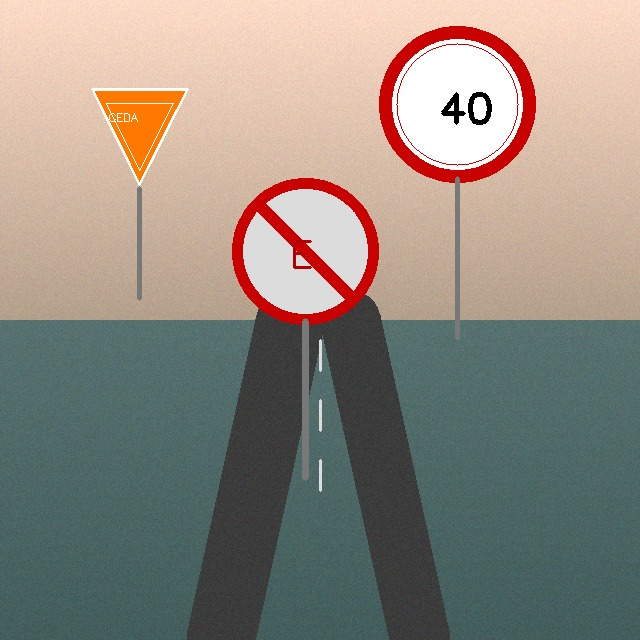ceda_el_paso: (88, 85, 191, 188)
no_estacionar: (235, 181, 375, 321)
velocidad: (383, 30, 531, 178)
